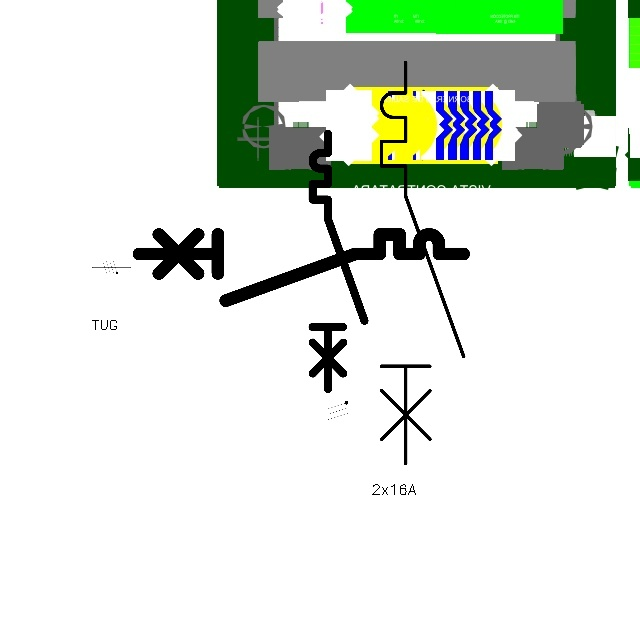interruptor_termomagnetico: (371, 52, 474, 474), (130, 226, 471, 309), (306, 127, 371, 395)
